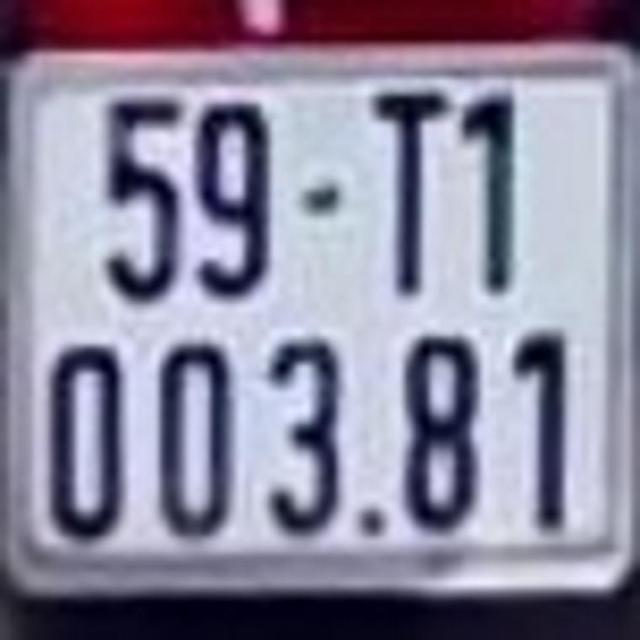0: (158, 345, 232, 537), (49, 344, 122, 538)
1: (513, 330, 567, 528), (464, 92, 515, 286)
3: (264, 340, 340, 532)
5: (106, 96, 181, 303)
8: (408, 335, 478, 531)
9: (196, 100, 269, 303)
T: (379, 88, 440, 291)
